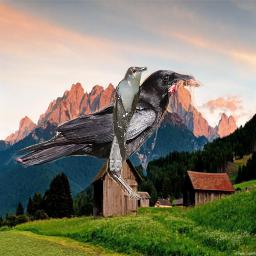Crow: (13, 65, 214, 200)
Cuckoo: (108, 65, 148, 171)
